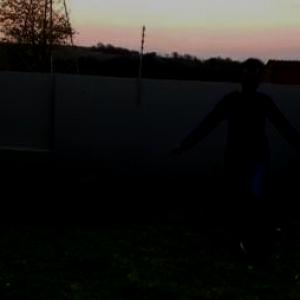land: (191, 60, 299, 236)
